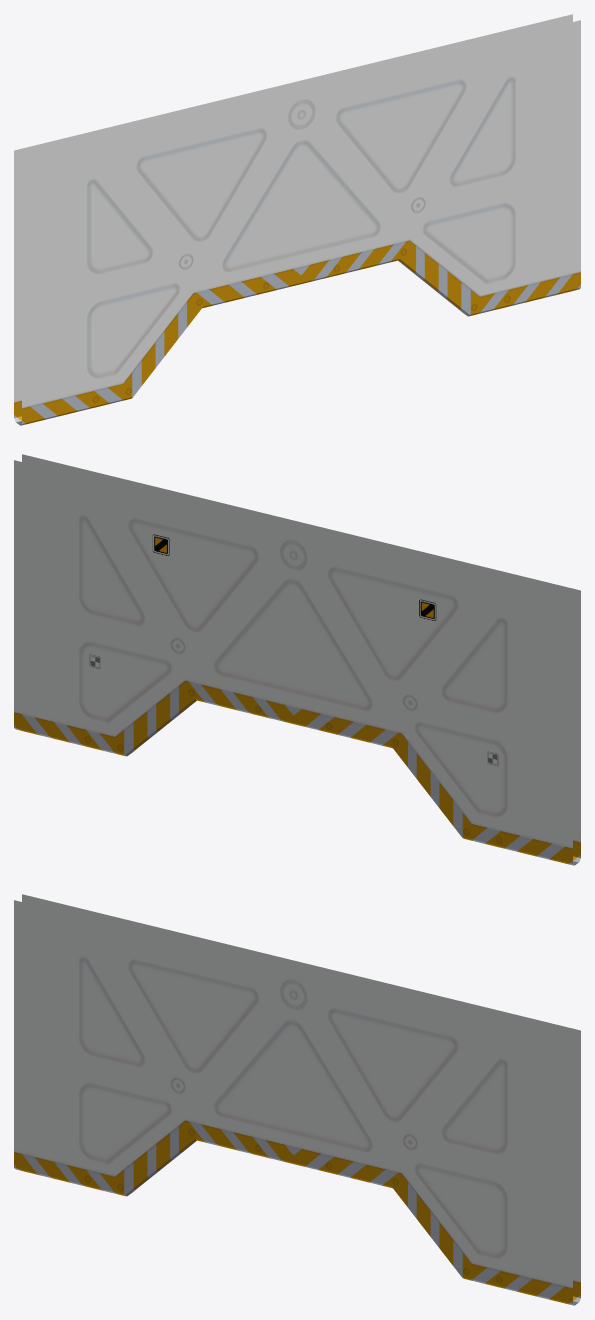
The model's file is Elevator_door_upper.fbx.
3 views of the same model, one above another, from view 1: azimuth 30°, elevation 25°; view 2: azimuth 150°, elevation 25°; view 3: azimuth 330°, elevation 25° (orthographic).
Visible parts, largest first — view 1: Elevator_door_upper; view 2: Elevator_door_upper; view 3: Elevator_door_upper.
Boxes of the visible parts, left/top/right/bottom form: Elevator_door_upper: left=14, top=14, right=580, bottom=425; Elevator_door_upper: left=14, top=454, right=580, bottom=865; Elevator_door_upper: left=14, top=894, right=580, bottom=1305.
Size of the model in its own units: 400 by 185 by 10.
